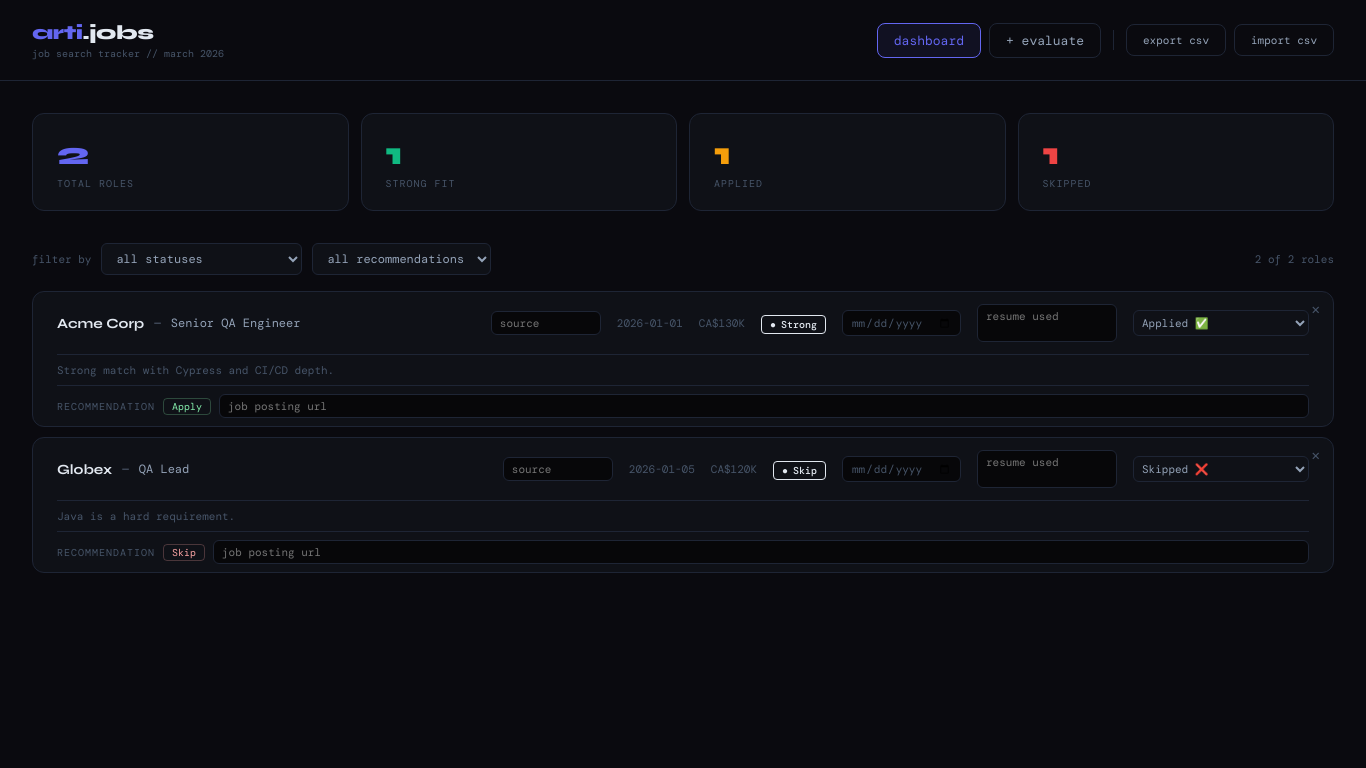
Test: evaluate view state › evaluate button enables when text is typed
The image size is (1366, 768).
Expected: the element with test id "job-list" is shown, [32,291,1334,573]
Click the button with test id "nav-evaluate".
click(1045, 40)  # box [989,22,1101,58]
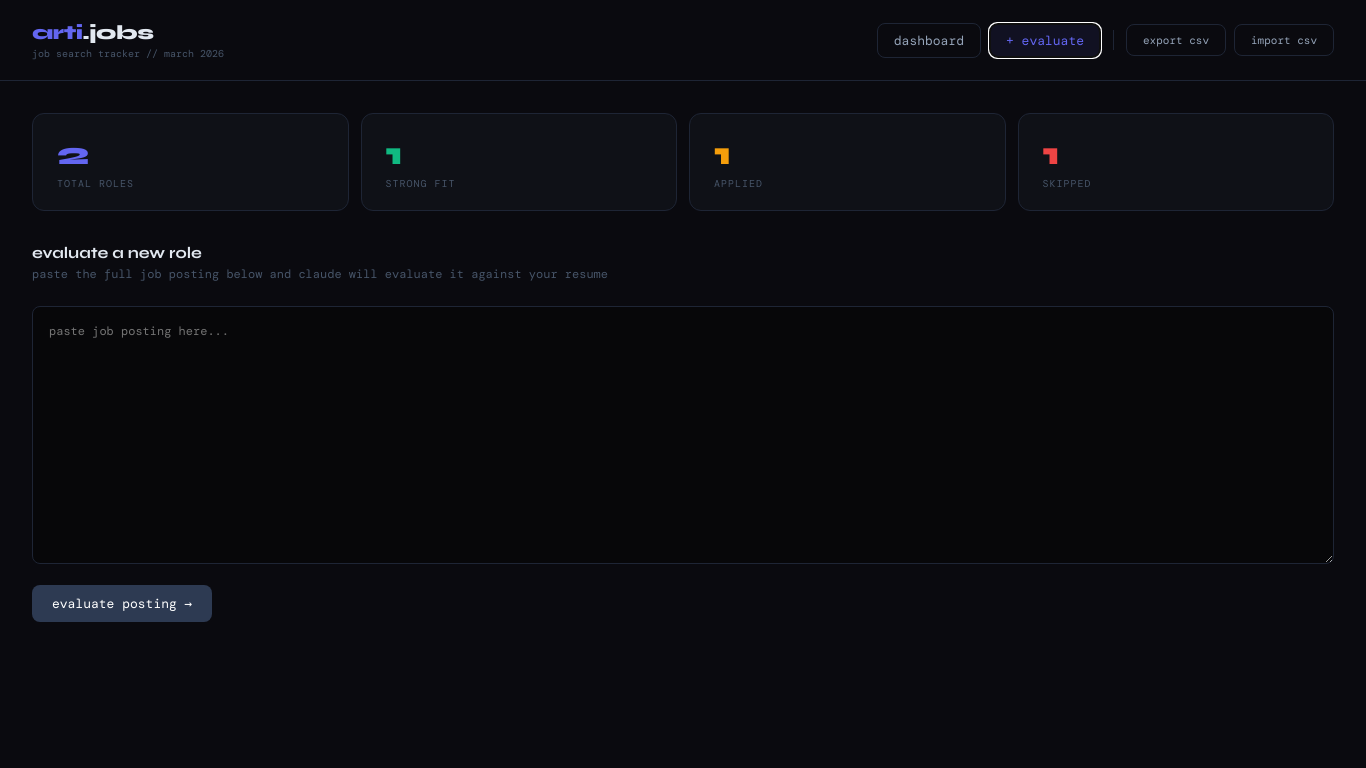
Type "some job posting" into the text box with test id "job-posting-input".
click(683, 435); type("some job posting")  # box [32,306,1334,564]
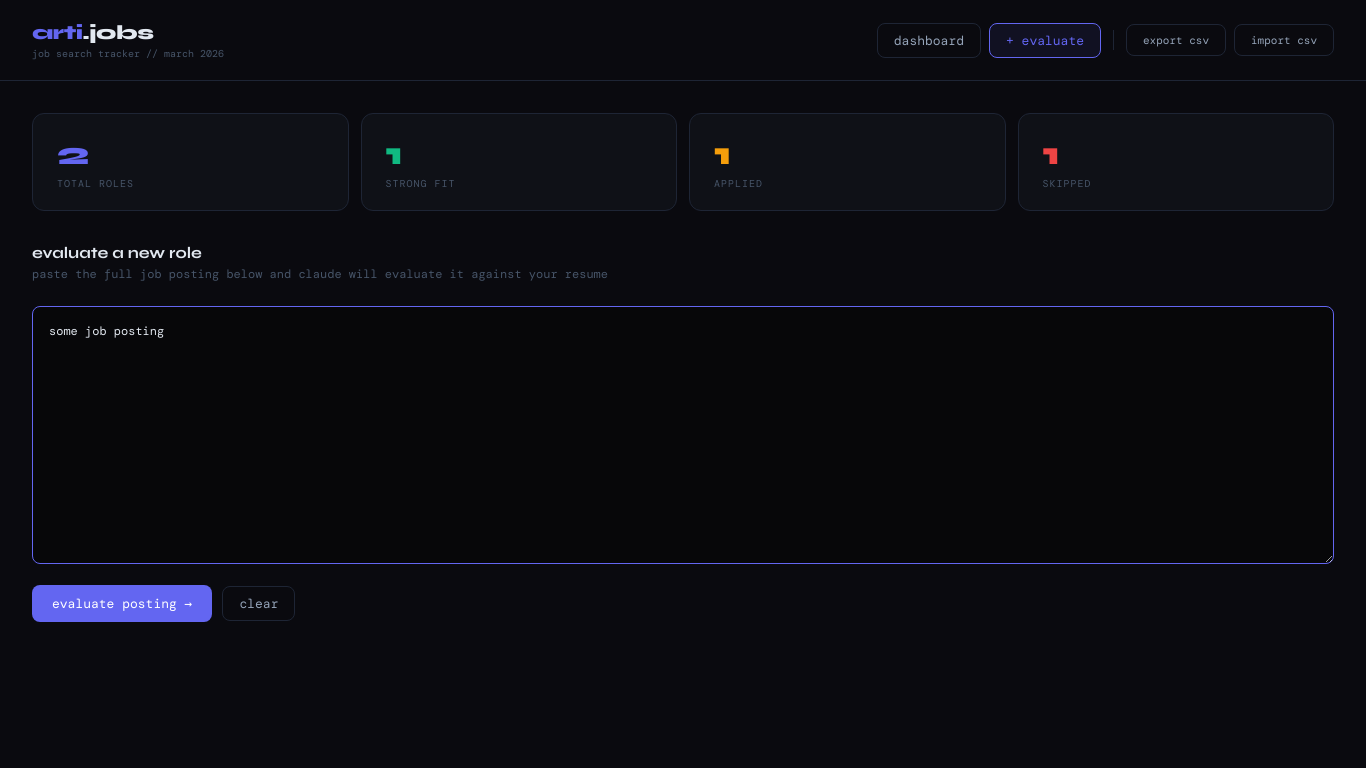
Expected: the button with test id "btn-evaluate" is enabled, [32,585,212,622]
